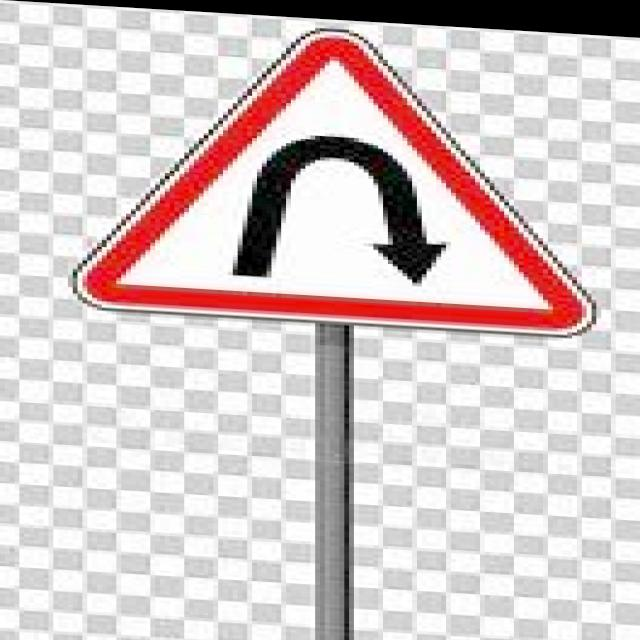RIGHT_HAIR_PIN_BEND: (76, 15, 601, 335)
